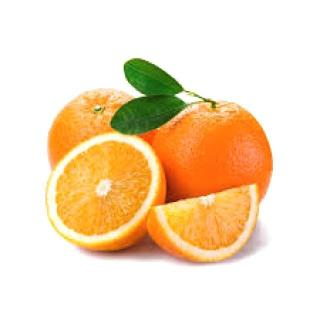orange: (147, 79, 279, 234), (40, 134, 158, 266), (146, 180, 282, 280)
